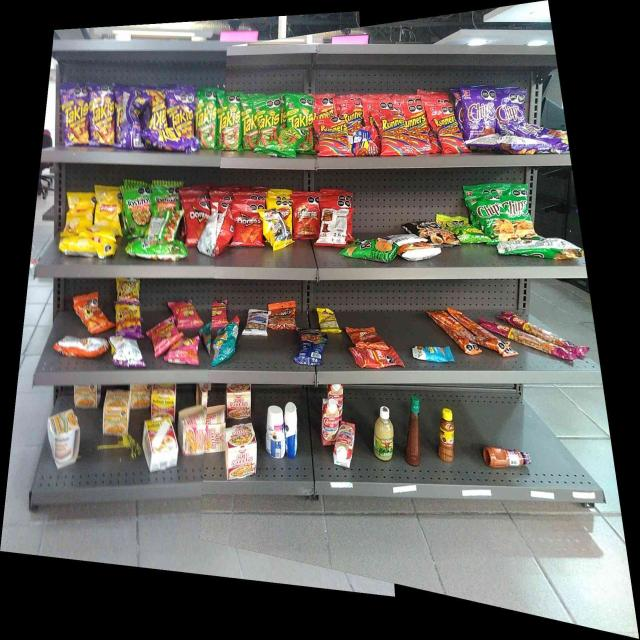bitzAlmendras: (414, 344, 452, 362)
bitzEnchilado90: (354, 348, 402, 368), (352, 328, 382, 345)
bitzEnchilado95: (434, 310, 487, 339)
bitzHabanero: (498, 313, 580, 357)
botaneraChilito: (437, 408, 455, 463)
cheetosFlaminHot: (116, 301, 140, 336), (116, 278, 140, 300)
cheetosOriginal: (78, 295, 105, 330)
chipsFuego: (463, 86, 496, 134), (498, 90, 525, 124), (512, 126, 566, 138)
chipsJalapeno: (504, 190, 532, 237), (479, 195, 503, 235)
chipsPapatinas: (446, 218, 476, 238)
churrumais: (153, 323, 176, 349), (177, 302, 200, 327), (177, 338, 198, 364), (213, 300, 228, 326)
delPrimoSalsa: (373, 406, 394, 462)
doritosNacho: (234, 204, 261, 247), (185, 199, 209, 233)
leoCacahuates: (247, 310, 267, 334)
leoMix: (270, 303, 294, 330)
maruchanPollo: (50, 410, 80, 464), (105, 390, 128, 436), (75, 385, 100, 408)
maruchanRes: (144, 419, 177, 468), (152, 384, 176, 417)
nestleCarnation: (321, 397, 336, 446), (337, 424, 354, 466)
nestleLechera: (266, 405, 284, 459), (285, 402, 298, 458)
nissinCamaron: (207, 405, 224, 453)
nissinRes: (226, 428, 257, 478), (228, 384, 251, 418)
popKarameladas: (410, 222, 444, 238)
productoAtras: (118, 90, 143, 148), (501, 241, 578, 258), (470, 139, 548, 152), (321, 207, 346, 247), (58, 336, 106, 354), (264, 209, 286, 248), (112, 338, 142, 366), (150, 210, 178, 238), (301, 339, 322, 365)
rancheritos: (294, 196, 318, 239)
rufflesQueso: (349, 239, 395, 260)
runners: (430, 102, 458, 154), (378, 111, 409, 155), (318, 118, 348, 156), (411, 104, 427, 152), (349, 101, 364, 128)
sabritasOriginal: (62, 234, 117, 258), (96, 185, 120, 228), (66, 192, 92, 230)
salsaBufalo: (406, 396, 421, 468)
semillasCalabaza: (320, 309, 338, 332)
tajinDulce: (482, 445, 532, 469)
takisFuego: (62, 86, 88, 146), (90, 88, 116, 148), (146, 130, 194, 152), (169, 90, 194, 128), (146, 89, 167, 128)
takisOriginal: (197, 92, 216, 148), (222, 96, 241, 150), (259, 100, 278, 150), (286, 95, 312, 126), (243, 99, 256, 149), (280, 128, 302, 155)
tostitos: (125, 189, 148, 235), (130, 242, 185, 259)
